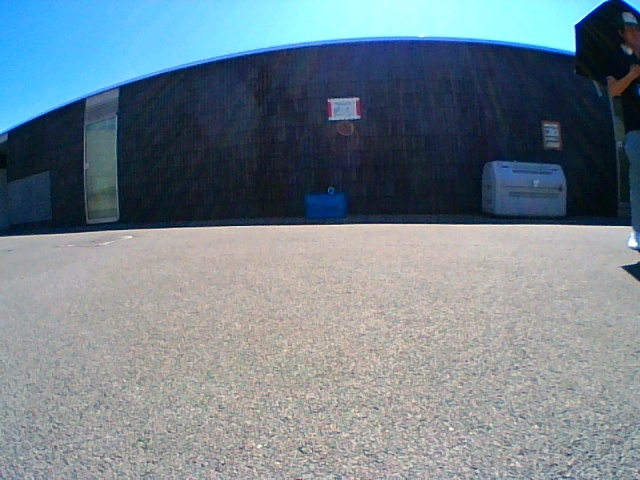blue_box: (304, 195, 345, 218)
